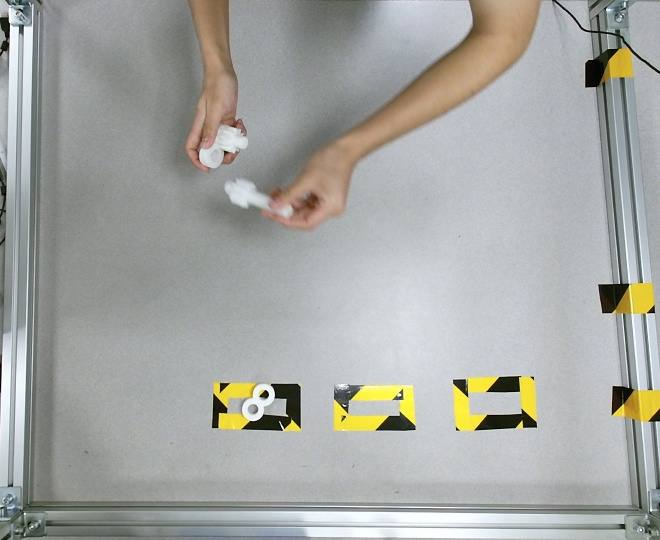stage_2: (198, 125, 248, 167)
